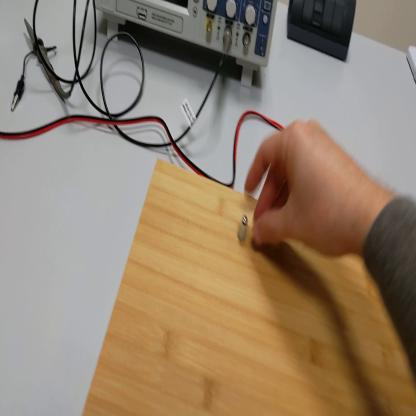hand: (245, 118, 368, 262)
oscilloscope: (93, 2, 280, 91)
oscilloscope probe tip: (24, 17, 73, 104)
working area: (86, 162, 416, 416)
